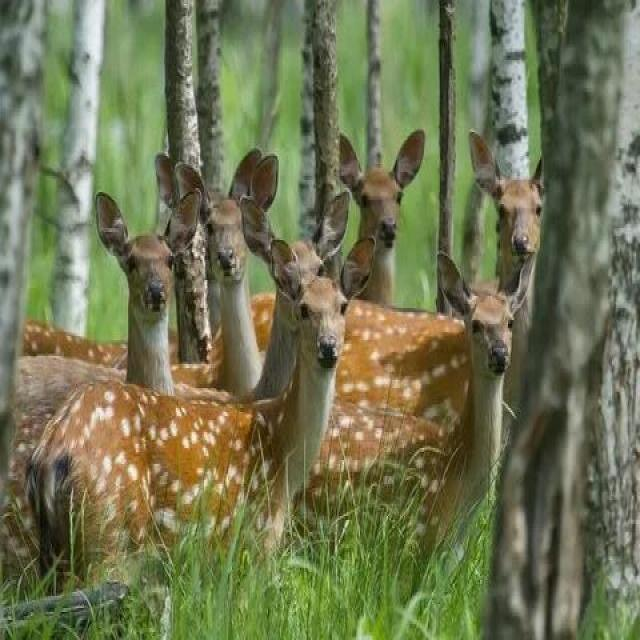deer: (59, 223, 392, 613), (361, 209, 554, 579), (118, 133, 322, 462), (16, 197, 219, 515), (286, 137, 462, 463), (437, 137, 589, 356)
